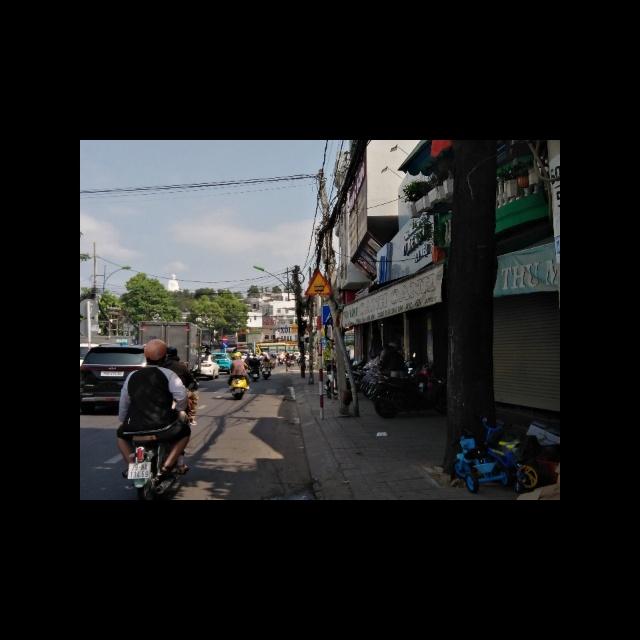Giao nhau với đường sắt có rào chắn: (304, 267, 334, 296)
